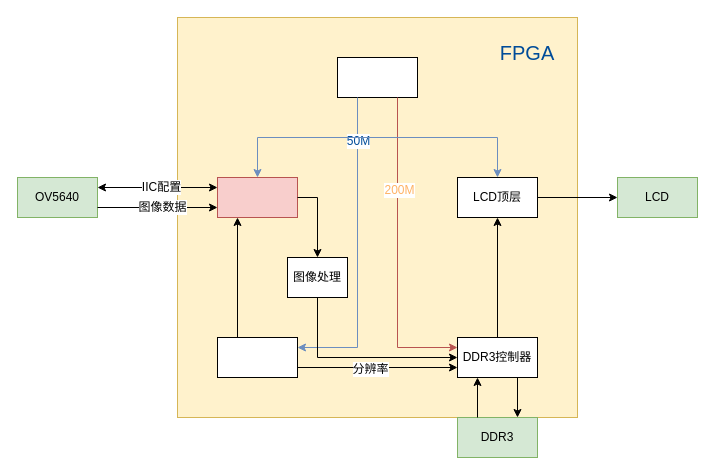
Some shapes in this 715 by 475 pixel diagram are drawn without their labels. The centre of each missing label's shape, as x and y in pixels:
OV5640驱动: pixel 257 197
图像分辨率设置模块: pixel 257 357
时钟模块: pixel 377 77
